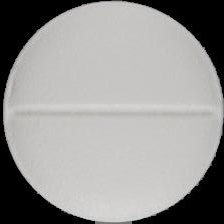61786-447: (0, 0, 224, 224)
